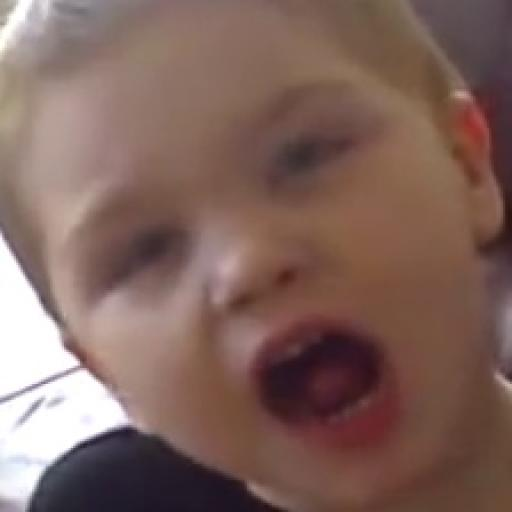Autism: (12, 6, 502, 474)
